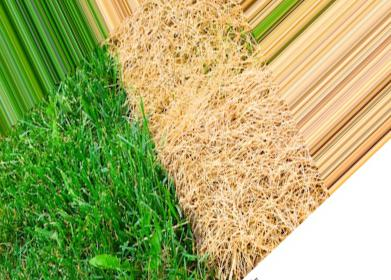patch: (153, 98, 280, 162), (124, 38, 246, 93), (194, 172, 295, 219), (150, 13, 229, 34), (213, 226, 256, 255)
